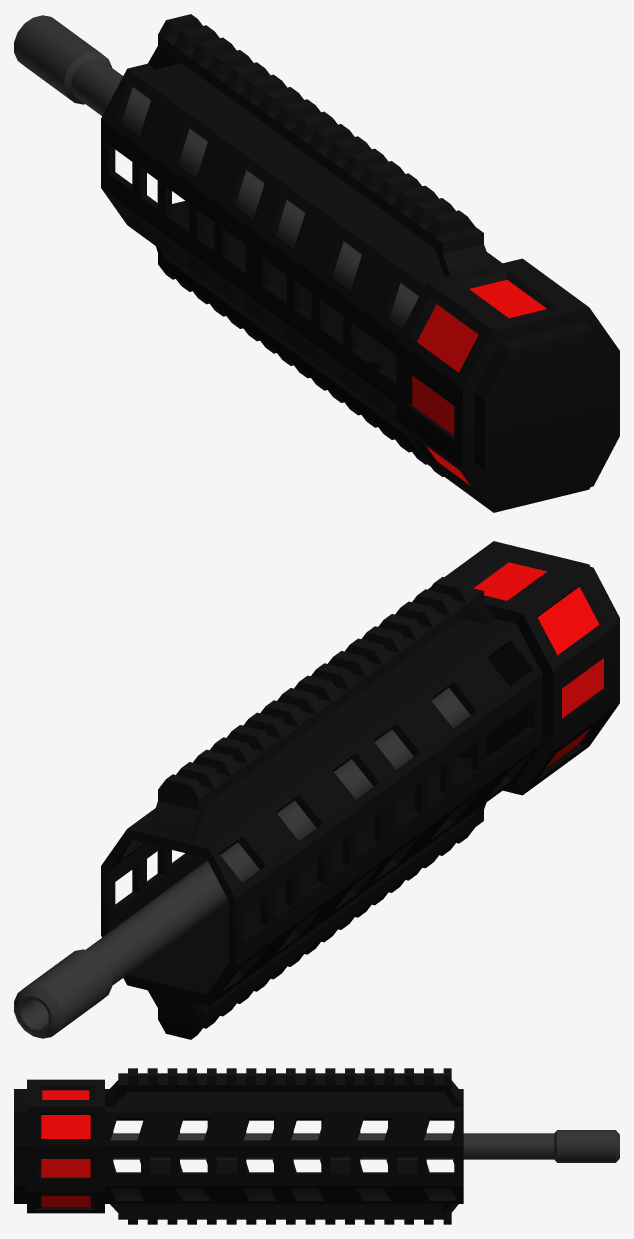
The model's file is Msh_Rifle.FBX.
3 views of the same model, one above another, from view 1: azimuth 30°, elevation 25°; view 2: azimuth 150°, elevation 25°; view 3: azimuth 270°, elevation 25° (orthographic). The views are drawn at different scales.
Visible parts, largest first — view 1: Msh_Rifle; view 2: Msh_Rifle; view 3: Msh_Rifle.
Part boxes in pixels (x1,y1,x2,y2): Msh_Rifle: (14, 14, 619, 512); Msh_Rifle: (14, 541, 619, 1039); Msh_Rifle: (14, 1068, 619, 1224).
Size of the model in its own units: 10.14 by 15.73 by 57.99.
